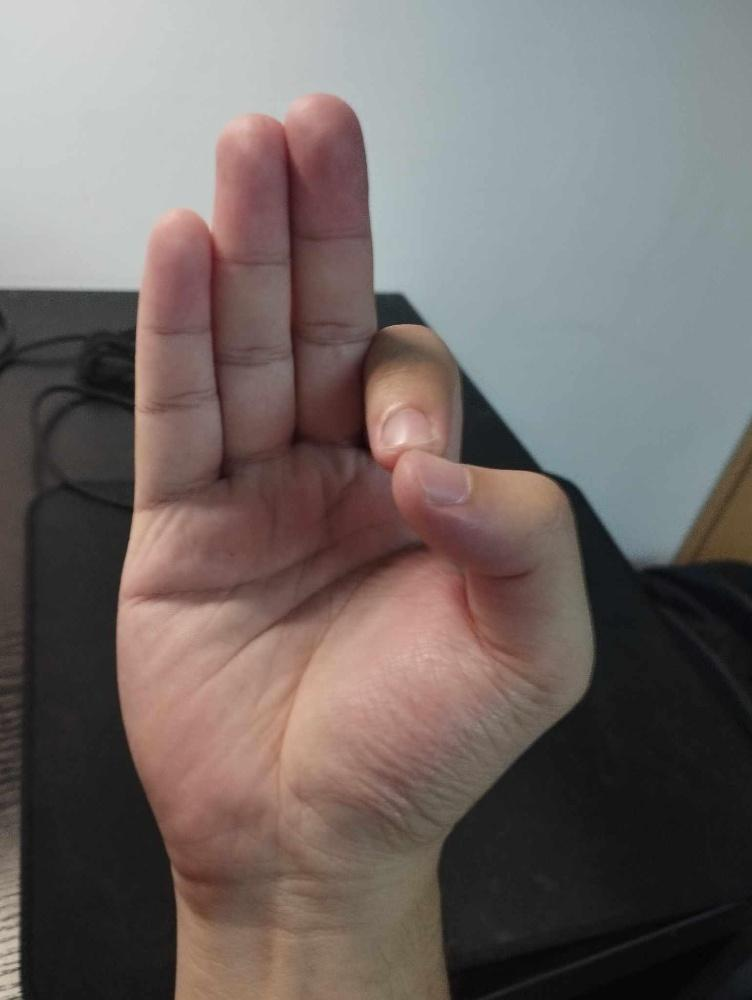f: (110, 90, 600, 888)
